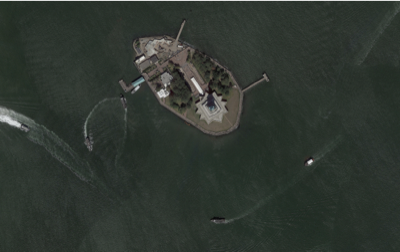boat: (131, 83, 142, 94), (120, 94, 128, 109), (304, 157, 315, 166), (86, 137, 92, 151), (211, 218, 226, 222), (21, 125, 30, 131)
